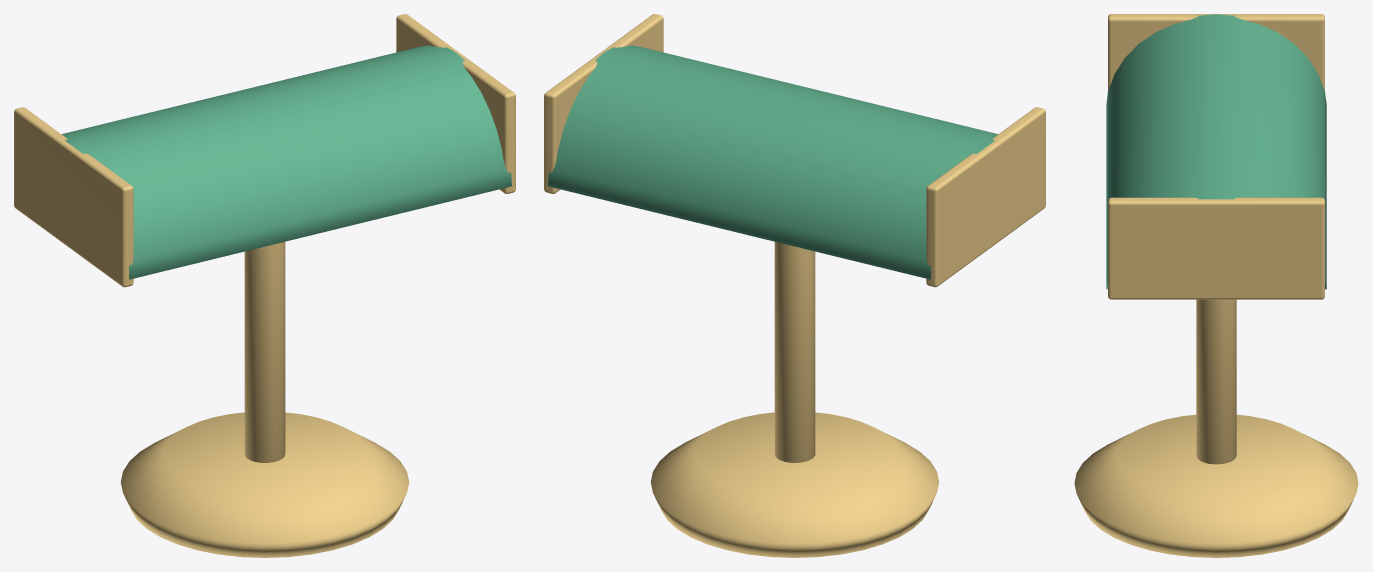
File: desk_lamp.glb
3 views of the same model, side by side, from view 1: azimuth 30°, elevation 25°; view 2: azimuth 150°, elevation 25°; view 3: azimuth 270°, elevation 25° (orthographic).
Parts seen in each view (by area): view 1: shade, base, cap-0.13, stem, cap0.13; view 2: shade, base, cap-0.13, stem, cap0.13; view 3: shade, base, cap0.13, stem, cap-0.13.
Part boxes in pixels (x1,y1,x2,y2): shade: (61, 45, 511, 279); base: (120, 412, 409, 557); cap-0.13: (14, 107, 133, 287); stem: (244, 242, 285, 462); cap0.13: (396, 14, 515, 193); shade: (548, 45, 998, 279); base: (650, 412, 939, 557); cap-0.13: (926, 107, 1045, 287); stem: (774, 242, 815, 462); cap0.13: (544, 14, 663, 193); shade: (1106, 14, 1326, 289); base: (1074, 414, 1358, 557); cap0.13: (1108, 197, 1324, 299); stem: (1196, 299, 1236, 464); cap-0.13: (1108, 14, 1324, 91).
Bounding box in the file's own units: 0.268 × 0.261 × 0.17.
